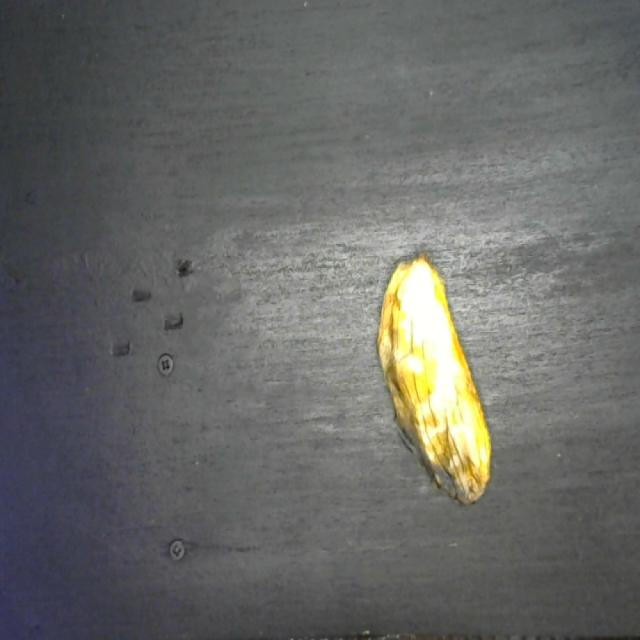biodegradable: (376, 251, 494, 508)
